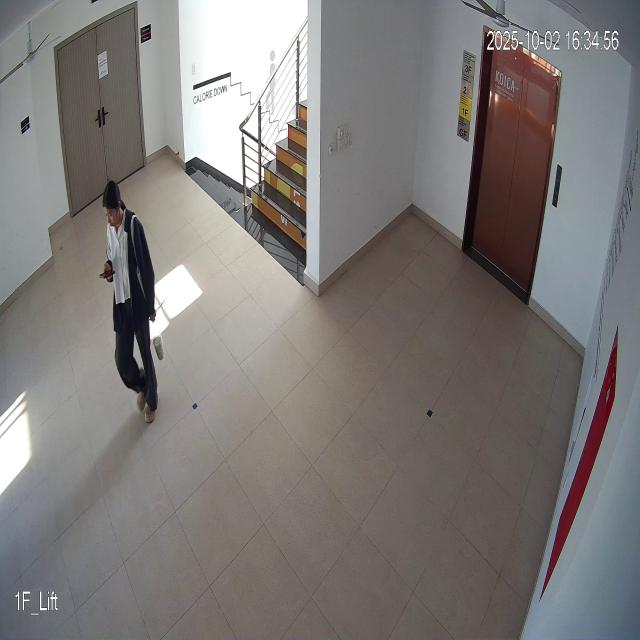face: (101, 176, 123, 230)
